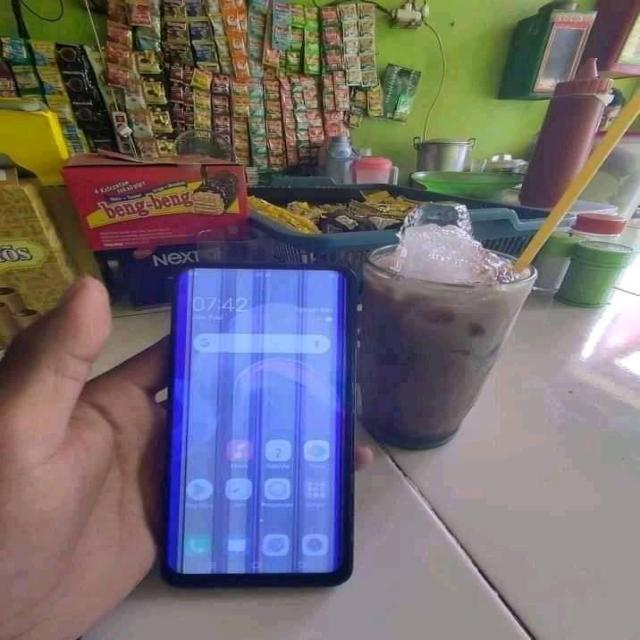phone: (160, 264, 359, 586)
